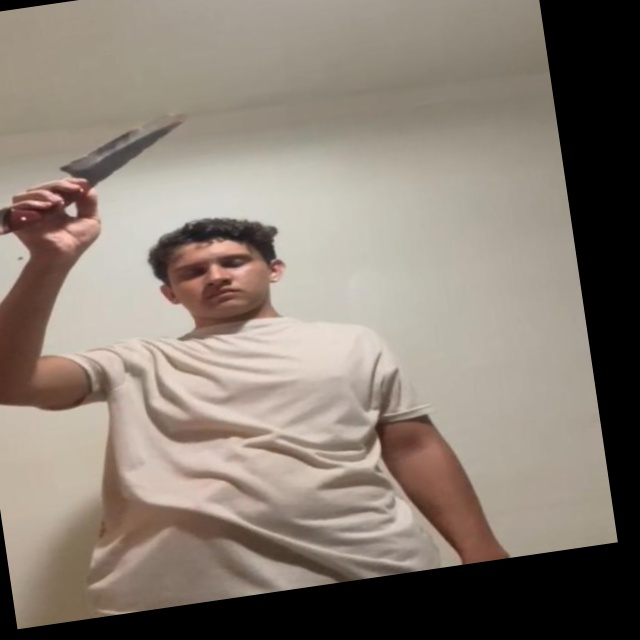Sharp-Object: (57, 110, 202, 178)
